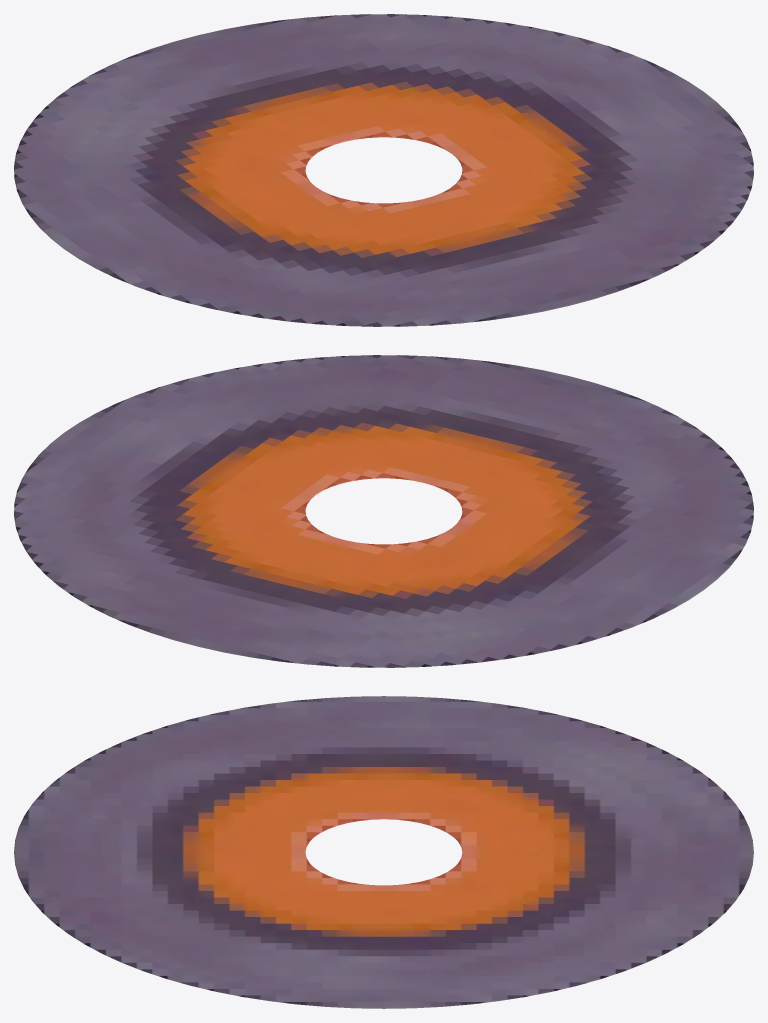
File: disccarfet.glb
3 renders of one model, top to bottom at view 1: azimuth 30°, elevation 25°; view 2: azimuth 150°, elevation 25°; view 3: azimuth 270°, elevation 25°, orthographic.
Parts seen in each view (by area): view 1: Main__mMain.002; view 2: Main__mMain.002; view 3: Main__mMain.002.
Boxes of the visible parts, x1,y1,x2,y2 form: Main__mMain.002: [14, 14, 753, 326]; Main__mMain.002: [14, 355, 753, 667]; Main__mMain.002: [14, 696, 753, 1008].
Bounding box in the file's own units: 0.7489 × 0.00075 × 0.7489.
1 material, 1 textured.
